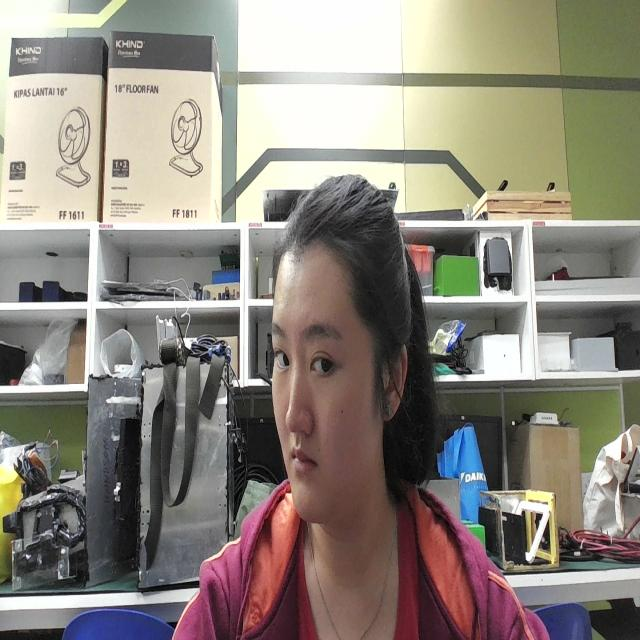Without Helmet: (260, 152, 466, 570)
